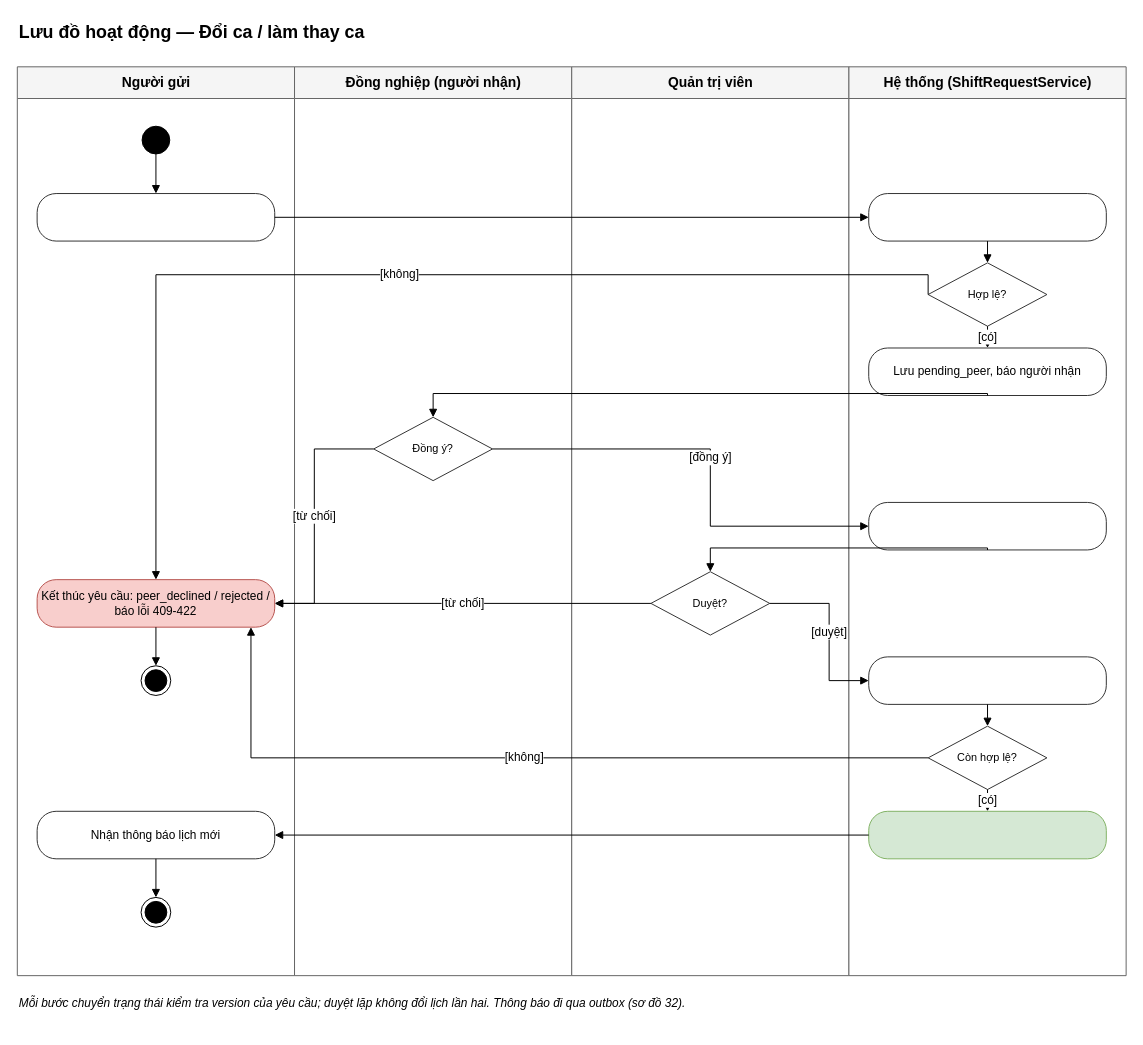
The diagram is 1143 pixels wide and 1045 high, and some of its shapes have lost their labels. Each missing label, with the centre of its shape:
Chọn ca của mình, đồng nghiệp, loại (đổi / làm thay), lý do: pixel 155 217
Kiểm tra lại snapshot và ràng buộc: pixel 987 680
Kiểm tra lịch chưa đổi → pending_approval, báo Admin: pixel 987 525
Kiểm tra ràng buộc sớm, chụp snapshot lịch: pixel 987 217
Đổi phân công nguyên tử, approved, audit + sự kiện: pixel 987 834
